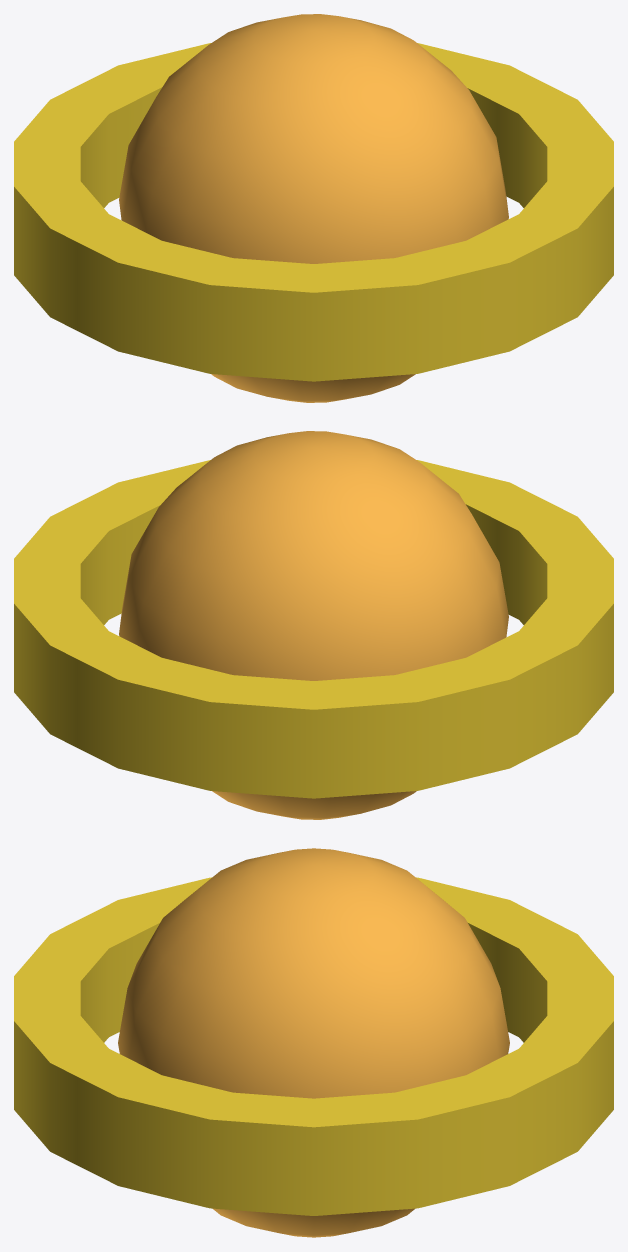
The model's file is Powerup.FBX.
The picture shows the model from 3 angles, top to bottom: view 1: azimuth 30°, elevation 25°; view 2: azimuth 150°, elevation 25°; view 3: azimuth 270°, elevation 25°; orthographic projection.
Visible parts, largest first — view 1: Sphere001; view 2: Sphere001; view 3: Sphere001.
Boxes of the visible parts, <box> form: Sphere001: <box>14,14,613,402</box>; Sphere001: <box>14,431,613,819</box>; Sphere001: <box>14,848,613,1237</box>.
Bounding box in the file's own units: 980 × 631 × 966.
1 material, 1 textured.
